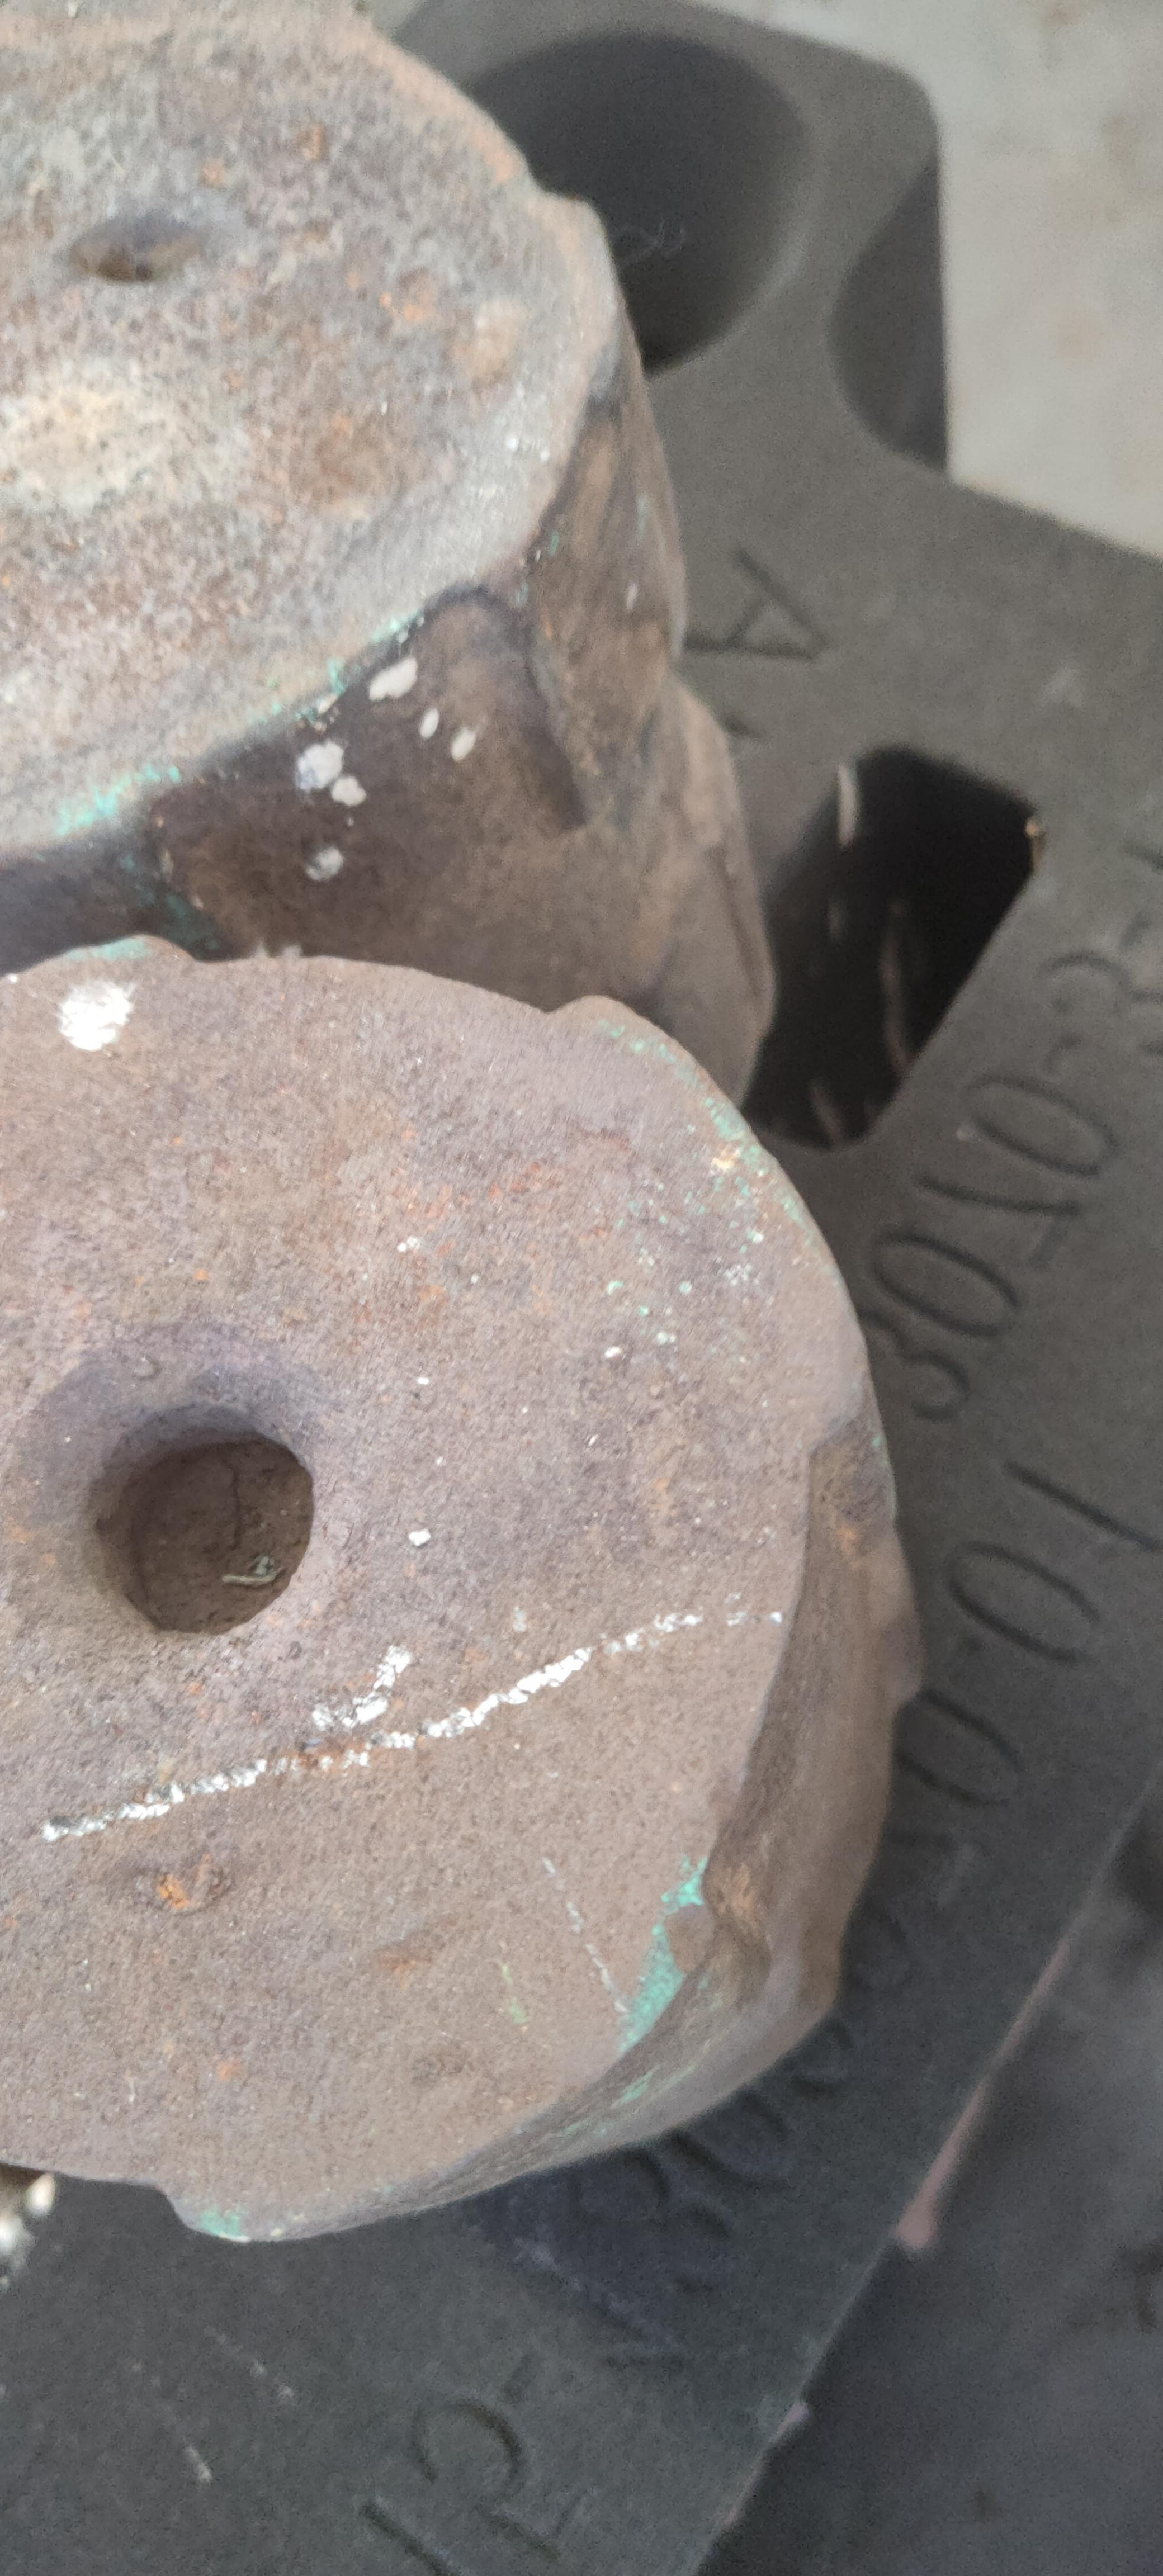pouring hole: (437, 26, 818, 396)
